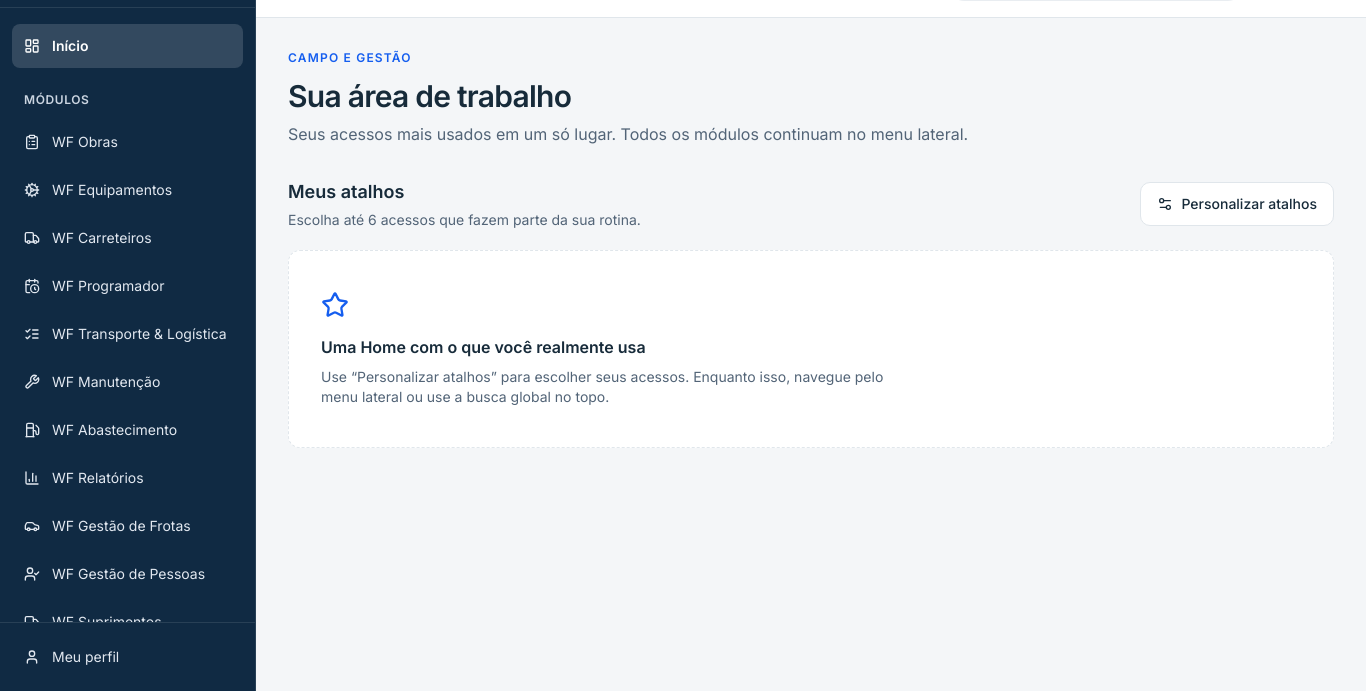
Scenario: Meus atalhos — Home desktop › informa falha de armazenamento sem fingir que salvou
Click the button "Personalizar atalhos": (1237, 204) 1140,182 -> 1334,226
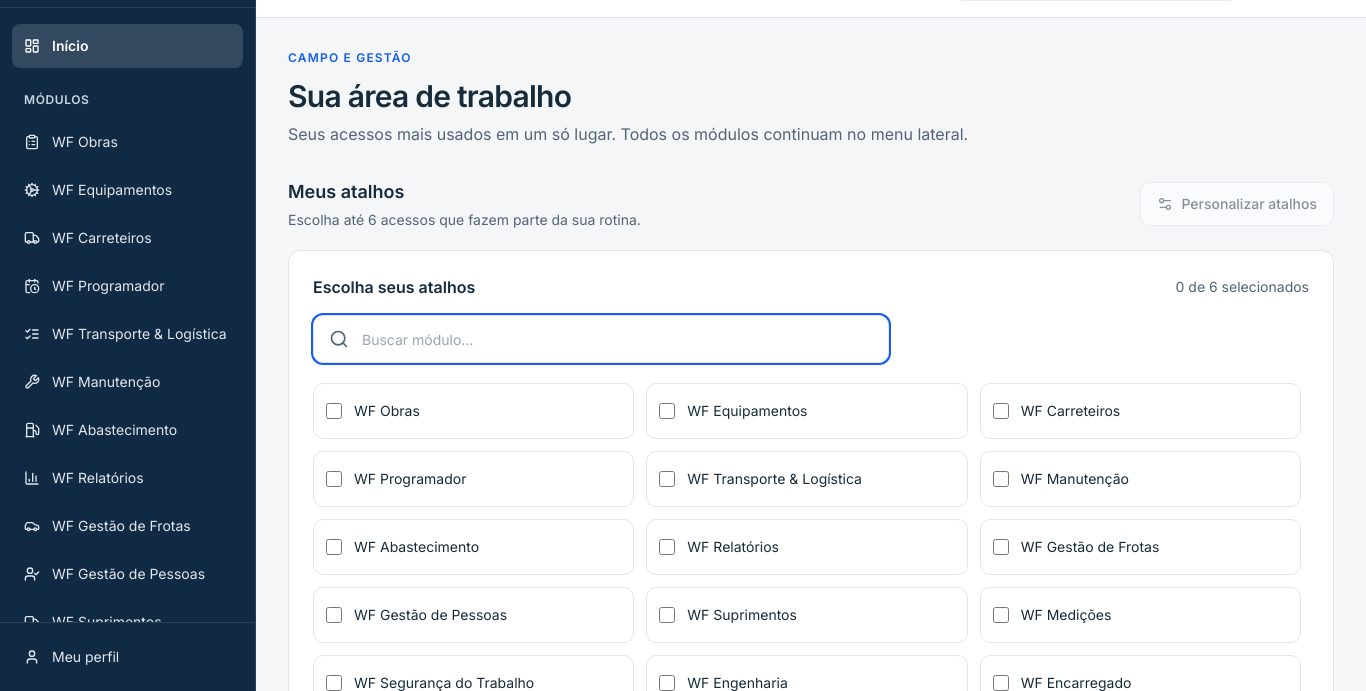
Click the checkbox labelled "WF Obras": (334, 411) 326,403 -> 342,419
(page scrolled)
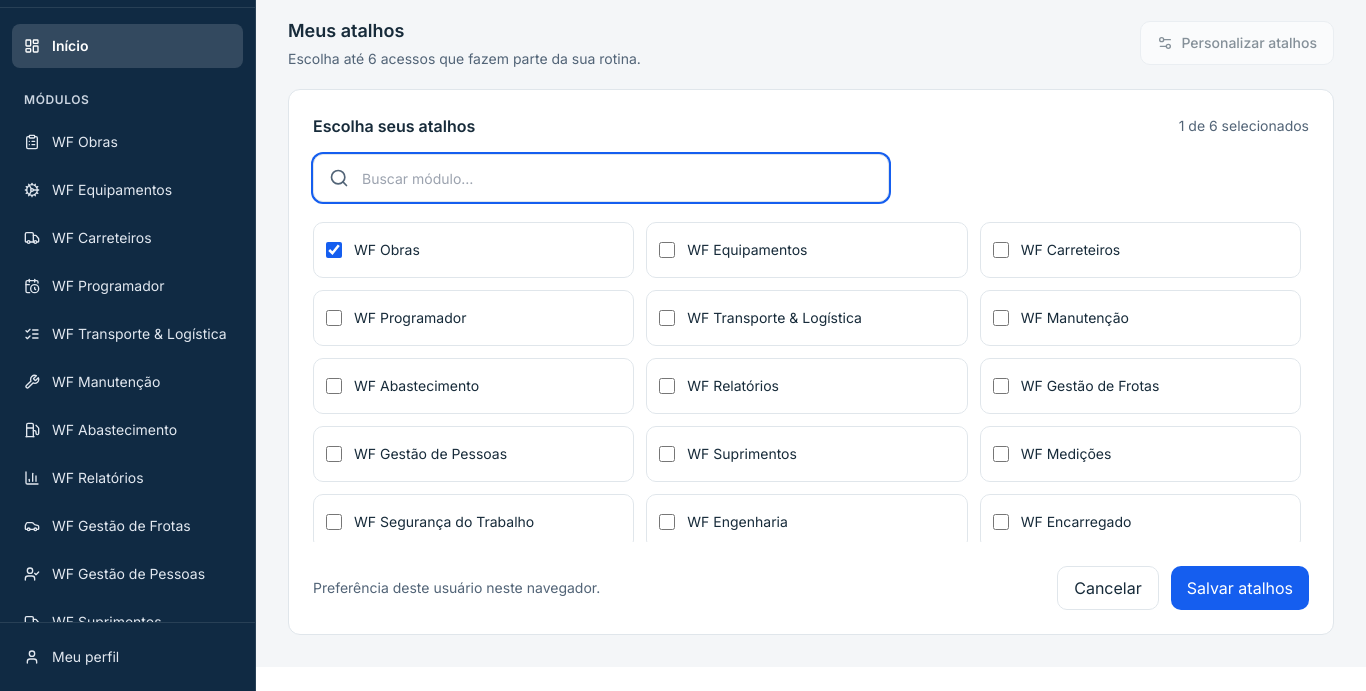
Click the button "Salvar atalhos": (1240, 588) 1171,566 -> 1309,610
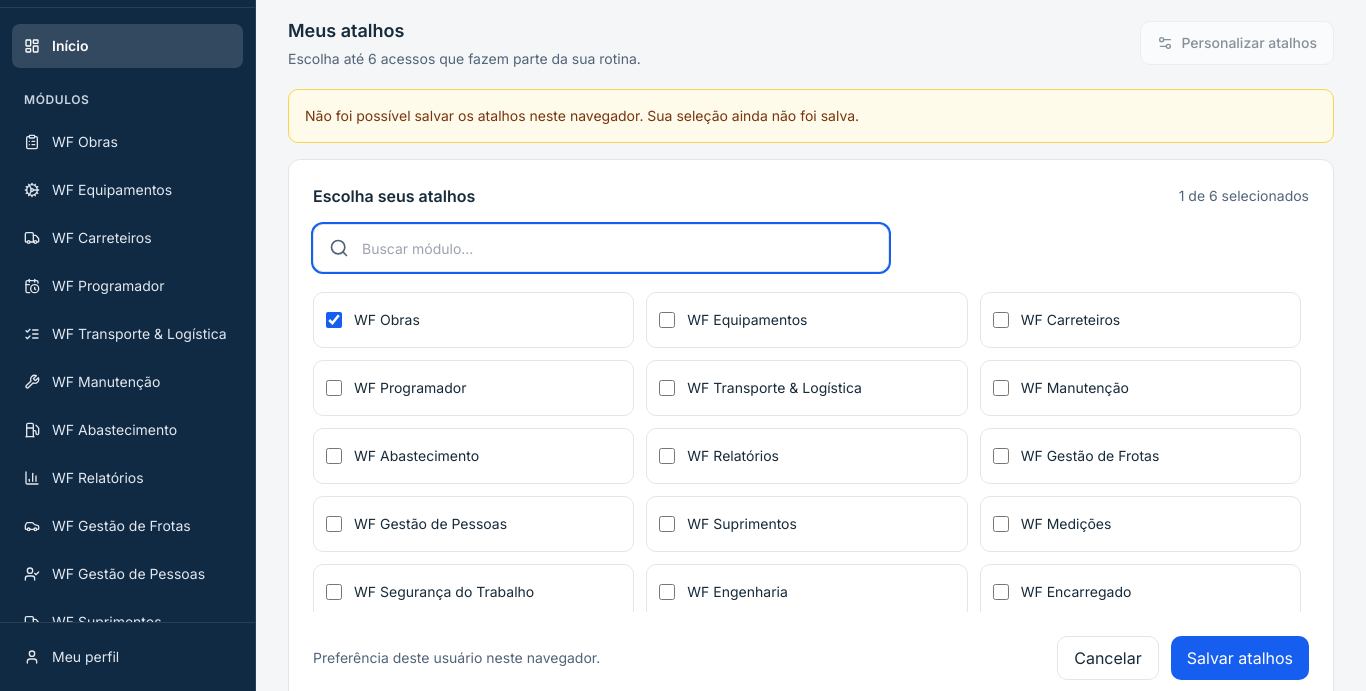
Expected: the button "Salvar atalhos" is shown, 1171,636 -> 1309,680
Expected: the 1st message shows "não foi salva", 305,107 -> 859,124
